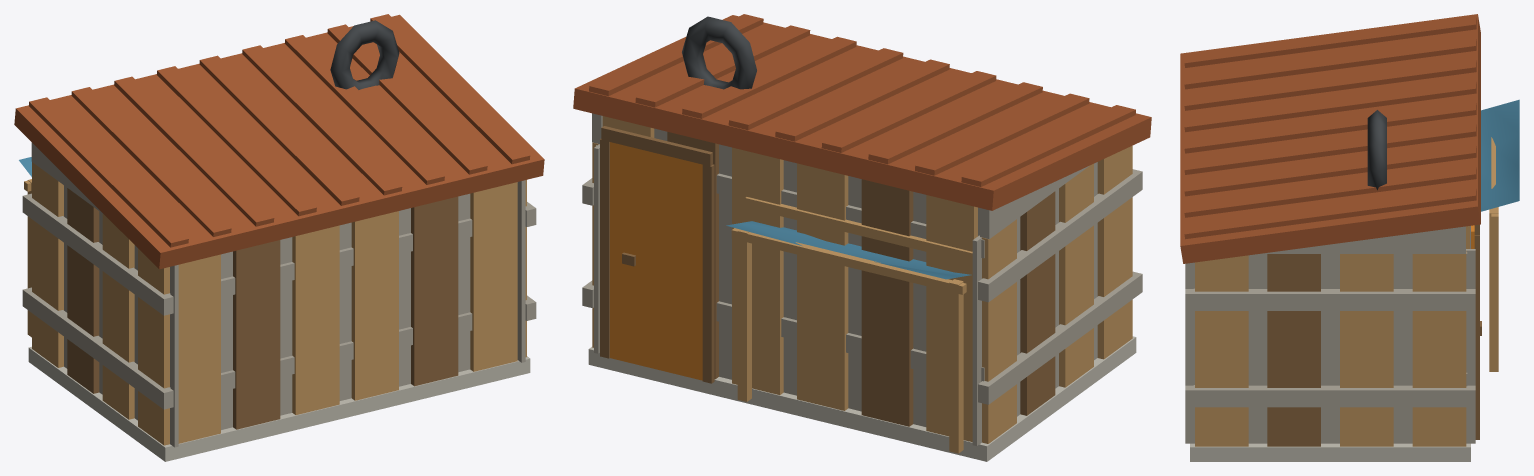
The model's file is cabane-bois-b.glb.
The picture shows the model from 3 angles, left to right: view 1: azimuth 30°, elevation 25°; view 2: azimuth 150°, elevation 25°; view 3: azimuth 270°, elevation 25°; orthographic projection. The views are drawn at different scales.
Visible parts, largest first — view 1: toit-dalle, palette-arriere-fond, palette-arriere-latte-0, palette-arriere-latte-1, palette-arriere-latte-4, palette-arriere-latte-3, palette-arriere-latte-2, socle, palette-arriere-latte-5, palette-gauche-latte-1, palette-gauche-latte-2, palette-gauche-latte-0 (+18 smaller); view 2: toit-dalle, porte-panneau, palette-facade-latte-1, palette-facade-latte-2, palette-facade-fond, socle, palette-facade-latte-3, palette-facade-latte-0, palette-gauche-latte-1, palette-gauche-latte-0, palette-gauche-latte-2, palette-gauche-latte-3 (+26 smaller); view 3: toit-dalle, palette-droite-fond, palette-droite-latte-3, palette-droite-latte-1, palette-droite-latte-2, palette-droite-latte-0, palette-droite-trav-bas, palette-droite-trav-haut, socle, toit-nerv-2, toit-nerv-0, toit-nerv-1 (+11 smaller).
Part boxes in pixels (<box>): toit-dalle: <box>14,14,544,269</box>; palette-arriere-fond: <box>221,193,470,429</box>; palette-arriere-latte-0: <box>470,182,517,371</box>; palette-arriere-latte-1: <box>411,196,458,386</box>; palette-arriere-latte-4: <box>233,240,280,429</box>; palette-arriere-latte-3: <box>292,225,339,414</box>; palette-arriere-latte-2: <box>351,211,398,400</box>; socle: <box>28,346,530,461</box>; palette-arriere-latte-5: <box>178,254,220,443</box>; palette-gauche-latte-1: <box>67,188,99,393</box>; palette-gauche-latte-2: <box>102,214,134,419</box>; palette-gauche-latte-0: <box>32,162,63,367</box>; toit-dalle: <box>573,15,1151,210</box>; porte-panneau: <box>610,142,702,380</box>; palette-facade-latte-1: <box>861,179,913,426</box>; palette-facade-latte-2: <box>797,163,848,410</box>; palette-facade-fond: <box>654,128,979,426</box>; socle: <box>588,336,1136,461</box>; palette-facade-latte-3: <box>732,147,783,394</box>; palette-facade-latte-0: <box>926,195,977,441</box>; palette-gauche-latte-1: <box>1020,191,1055,415</box>; palette-gauche-latte-0: <box>981,219,1016,443</box>; palette-gauche-latte-2: <box>1059,163,1093,387</box>; palette-gauche-latte-3: <box>1097,145,1132,359</box>; toit-dalle: <box>1180,14,1480,263</box>; palette-droite-fond: <box>1185,249,1475,443</box>; palette-droite-latte-3: <box>1412,250,1466,446</box>; palette-droite-latte-1: <box>1267,254,1320,446</box>; palette-droite-latte-2: <box>1340,254,1393,446</box>; palette-droite-latte-0: <box>1195,255,1248,446</box>; palette-droite-trav-bas: <box>1185,385,1475,407</box>; palette-droite-trav-haut: <box>1185,289,1475,310</box>; socle: <box>1190,443,1470,461</box>; toit-nerv-2: <box>1184,58,1476,110</box>; toit-nerv-0: <box>1184,15,1476,67</box>; toit-nerv-1: <box>1184,37,1476,89</box>.
Size of the model in its own units: 0.2 by 0.15 by 0.149.
